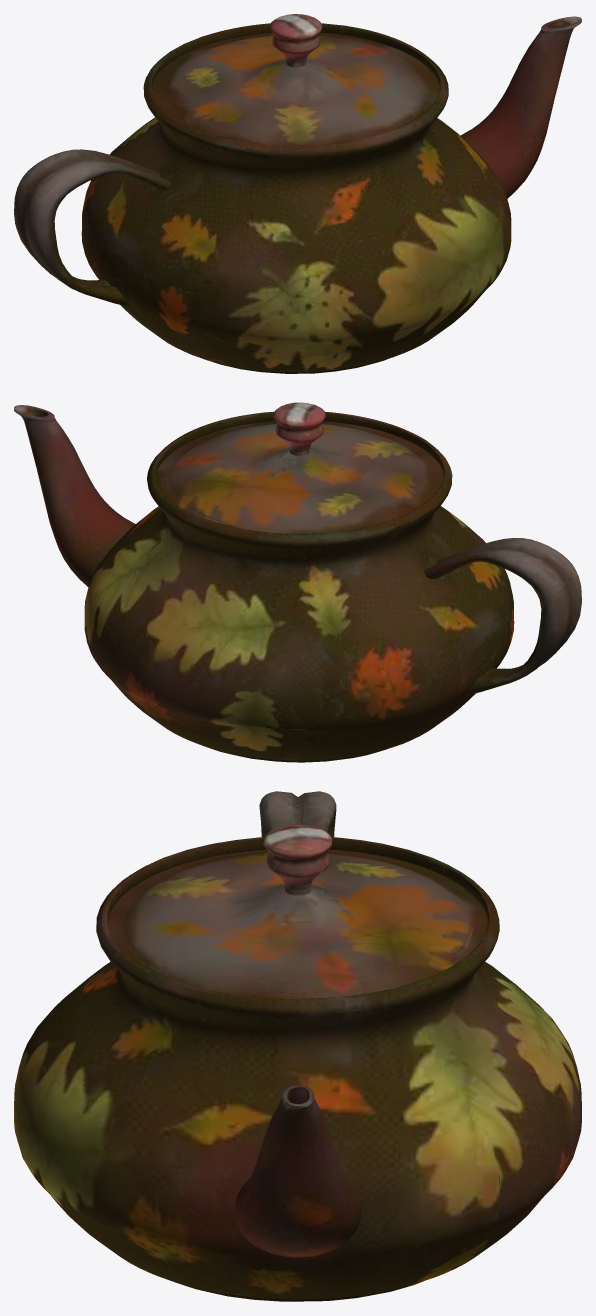
Rendered from coci_old_teapot.glb.
3 renders of one model, top to bottom at view 1: azimuth 30°, elevation 25°; view 2: azimuth 150°, elevation 25°; view 3: azimuth 270°, elevation 25°, orthographic. The views are drawn at different scales.
Parts seen in each view (by area): view 1: defaultMaterial; view 2: defaultMaterial; view 3: defaultMaterial.
Boxes of the visible parts, x1,y1,x2,y2 form: defaultMaterial: (14,14,581,373); defaultMaterial: (14,402,581,762); defaultMaterial: (14,791,581,1301).
Bounding box in the file's own units: 0.3889 × 0.2 × 0.2581.
Materials: 1 (1 with a texture image).
